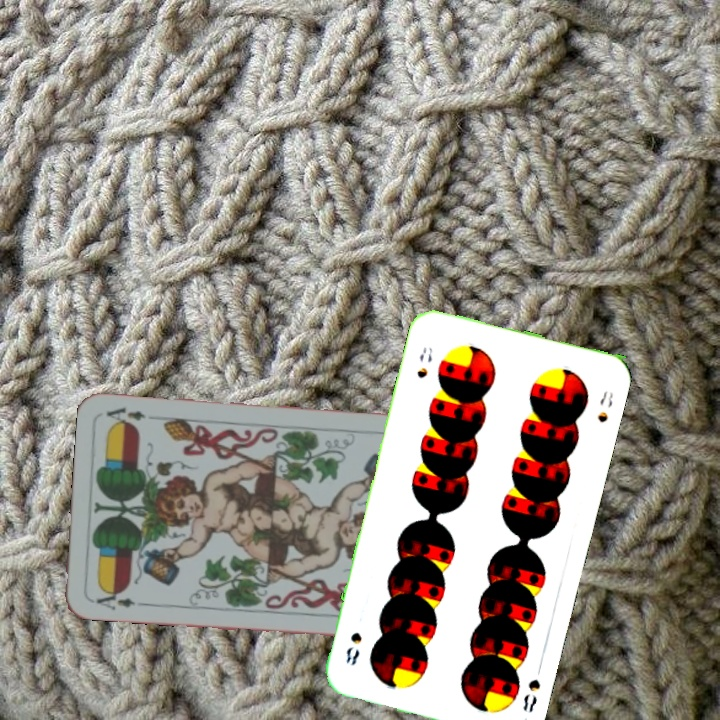EA: (93, 585, 147, 613)
S8: (518, 659, 545, 715), (413, 343, 435, 381)
